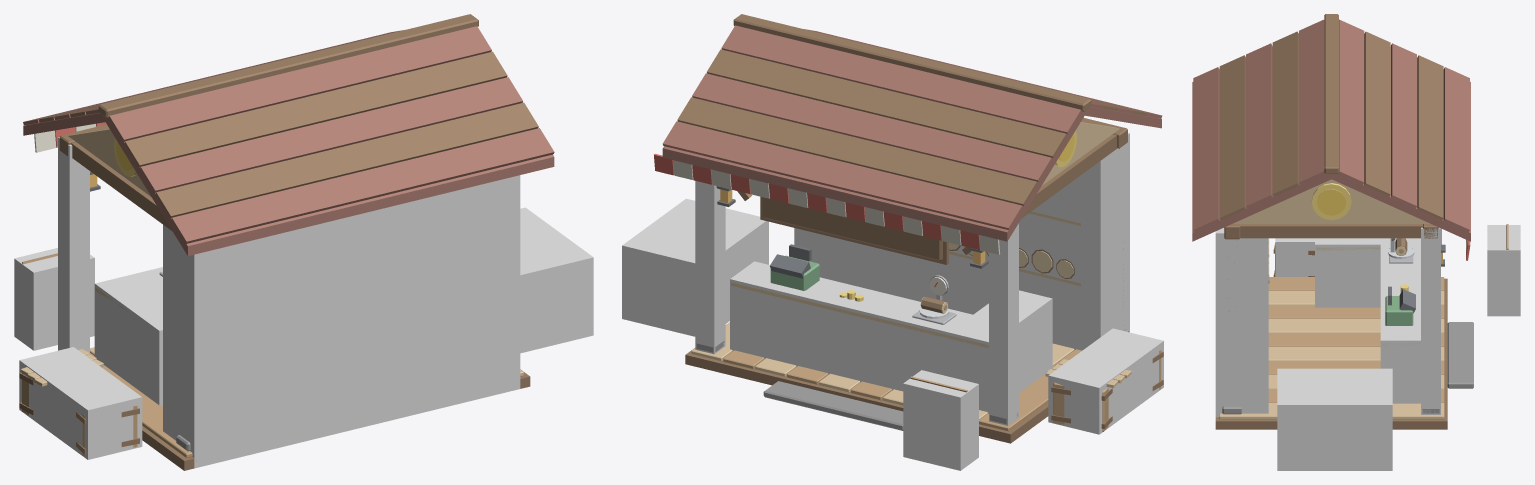
File: Market.fbx
The picture shows the model from 3 angles, left to right: view 1: azimuth 30°, elevation 25°; view 2: azimuth 150°, elevation 25°; view 3: azimuth 270°, elevation 25°; orthographic projection. The views are drawn at different scales.
Parts seen in each view (by area): view 1: COL_Back, Market_Mesh, COL_Crates, COL_LogPile, COL_FrontPost, COL_Chalkboard, COL_SideCounter, COL_Counter; view 2: Market_Mesh, COL_Back, COL_Counter, COL_LogPile, COL_Crates, COL_Chalkboard, COL_FrontPost, COL_FrontPost.001, COL_SideCounter; view 3: Market_Mesh, COL_LogPile, COL_Back, COL_Counter, COL_SideCounter, COL_FrontPost.001, COL_Chalkboard, COL_Crates.
Boxes of the visible parts, left/top/right/bottom form: COL_Back: left=163, top=175, right=520, bottom=468; Market_Mesh: left=19, top=14, right=554, bottom=470; COL_Crates: left=19, top=347, right=142, bottom=459; COL_LogPile: left=520, top=207, right=593, bottom=353; COL_FrontPost: left=58, top=137, right=89, bottom=353; COL_Chalkboard: left=14, top=248, right=94, bottom=350; COL_SideCounter: left=118, top=290, right=162, bottom=405; COL_Counter: left=94, top=267, right=162, bottom=376; Market_Mesh: left=654, top=14, right=1163, bottom=443; COL_Back: left=794, top=133, right=1129, bottom=350; COL_Counter: left=730, top=261, right=988, bottom=413; COL_LogPile: left=622, top=198, right=768, bottom=336; COL_Crates: left=1048, top=328, right=1163, bottom=434; COL_Chalkboard: left=903, top=370, right=978, bottom=470; COL_FrontPost: left=989, top=223, right=1018, bottom=425; COL_FrontPost.001: left=695, top=181, right=725, bottom=354; COL_SideCounter: left=973, top=290, right=1052, bottom=392; Market_Mesh: left=1192, top=14, right=1508, bottom=429; COL_LogPile: left=1277, top=368, right=1392, bottom=470; COL_Back: left=1215, top=228, right=1268, bottom=417; COL_Counter: left=1380, top=238, right=1420, bottom=403; COL_SideCounter: left=1315, top=238, right=1384, bottom=307; COL_FrontPost.001: left=1421, top=227, right=1440, bottom=414; COL_Chalkboard: left=1487, top=225, right=1520, bottom=316; COL_Crates: left=1275, top=238, right=1314, bottom=276.
Size of the model in its own units: 7.58 by 4.46 by 4.95.
